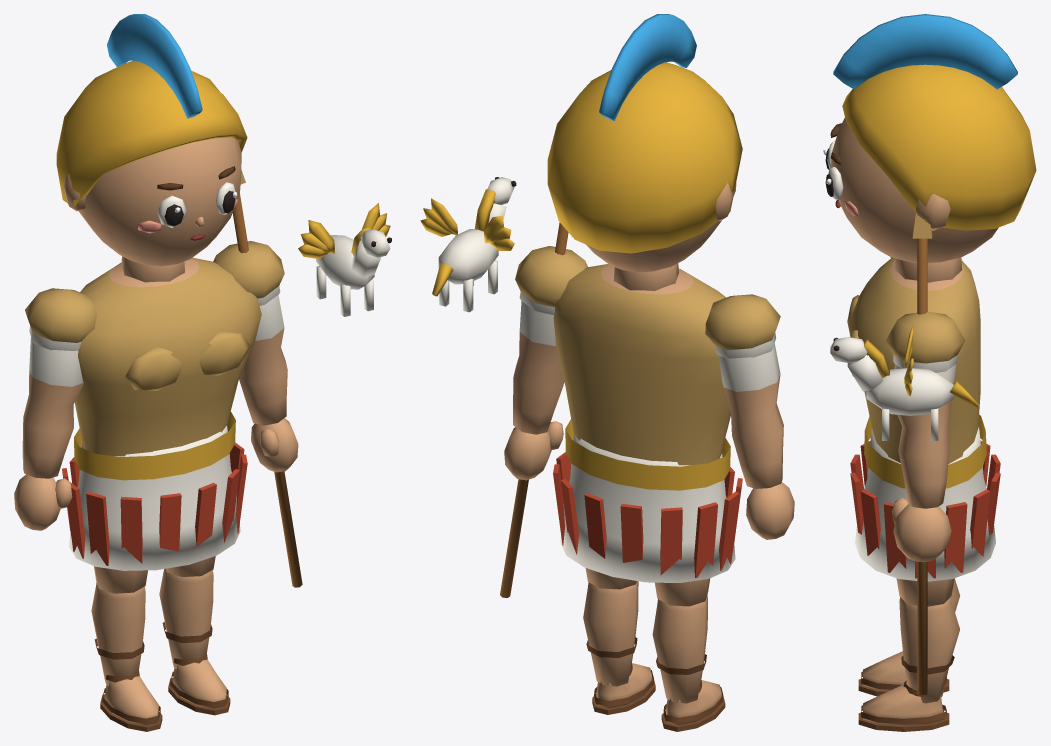
The model's file is bellerophon.glb.
The picture shows the model from 3 angles, left to right: view 1: azimuth 30°, elevation 25°; view 2: azimuth 150°, elevation 25°; view 3: azimuth 270°, elevation 25°; orthographic projection. The views are drawn at different scales.
Parts seen in each view (by area): view 1: rumpf, kopfschmuck, huefte, kopf, armL, armR, knieL, knieR, begleiter, itemR, beinL, augeL; view 2: kopfschmuck, rumpf, huefte, armL, armR, knieR, knieL, begleiter, kopf, itemR, beinL, beinR; view 3: kopfschmuck, rumpf, armR, huefte, kopf, knieR, begleiter, itemR, knieL, beinR, augeR.
Boxes of the visible parts, x1,y1,x2,y2 form: rumpf: (74,257,261,480); kopfschmuck: (56,14,247,207); huefte: (62,426,247,570); kopf: (63,137,241,282); armL: (14,288,96,530); armR: (213,241,298,472); knieL: (91,582,162,731); knieR: (159,568,230,715); begleiter: (298,203,391,316); itemR: (232,170,302,587); beinL: (94,566,147,593); augeL: (157,195,186,227); kopfschmuck: (547,14,742,253); rumpf: (553,264,730,490); huefte: (553,434,742,582); armL: (705,294,794,539); armR: (504,246,587,480); knieR: (583,581,655,714); knieL: (652,595,725,731); begleiter: (420,177,516,312); kopf: (586,183,736,290); itemR: (500,222,568,597); beinL: (655,578,710,606); beinR: (585,568,636,589); kopfschmuck: (833,14,1036,230); rumpf: (847,257,986,488); armR: (885,311,965,561); huefte: (850,427,1000,581); kopf: (831,118,998,282); knieR: (858,597,959,731); begleiter: (830,324,979,440); itemR: (912,213,932,694); knieL: (858,578,960,696); beinR: (896,578,954,606); augeR: (825,167,843,199).
Size of the model in its own units: 1.4 by 2.48 by 0.6939.
